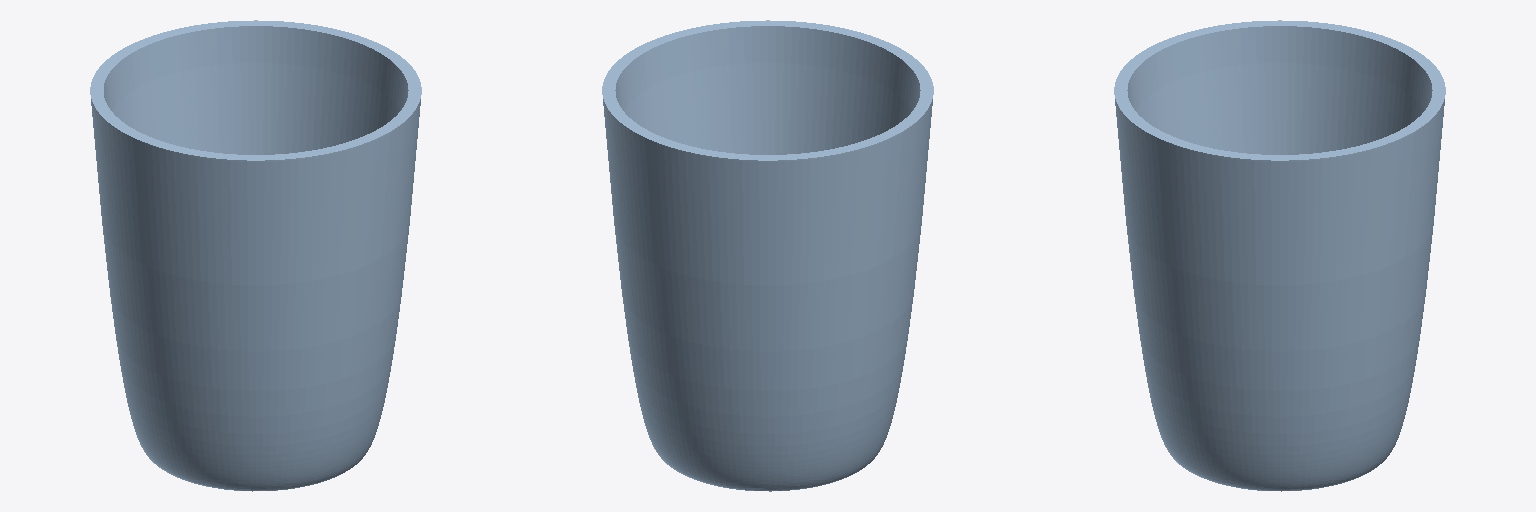
robot.urdf — cup.urdf:
<?xml version="1.0" ?>
<robot name="cup.urdf">
  <dynamics damping="0.5" friction="0.9"/>
  <link name="baseLink">
    <contact>
      <lateral_friction value="0.9"/>
      <rolling_friction value="0.5"/>
      <stiffness value="30000"/>
      <damping value="1000"/>
    </contact>
    <visual>
      <origin rpy="0 0 0" xyz="0 0 0"/>
      <geometry>
        <mesh filename="cup/cup.obj" scale="1.0 1.0 1.0"/>
      </geometry>
       <material name="mat">
        <color rgba="0.7 0.8 0.9 1"/>
      </material>
    </visual>
    <collision>
      <origin rpy="0 0 0" xyz="0 0 0"/>
      <geometry>
	 	<mesh filename="cup/cup.obj" scale="1.0 1.0 1.0"/>
      </geometry>
    </collision>
  </link>
</robot>

--- Render facts (derived) ---
Views: 3 orthographic renders of the robot side by side, from view 1: azimuth 30°, elevation 25°; view 2: azimuth 150°, elevation 25°; view 3: azimuth 270°, elevation 25°.
Robot: cup.urdf — 1 links, 0 joints (none); root link baseLink; default pose: every joint at zero.
Visible links, largest first — view 1: baseLink; view 2: baseLink; view 3: baseLink.
Link boxes in pixels (<box>): baseLink: <box>90,20,421,491</box>; baseLink: <box>602,20,933,491</box>; baseLink: <box>1114,20,1445,491</box>.
Size in the robot's own frame: 0.0847 by 0.0847 by 0.1 metres.
1 mesh visuals loaded from 1 distinct referenced files (1 OBJ).
